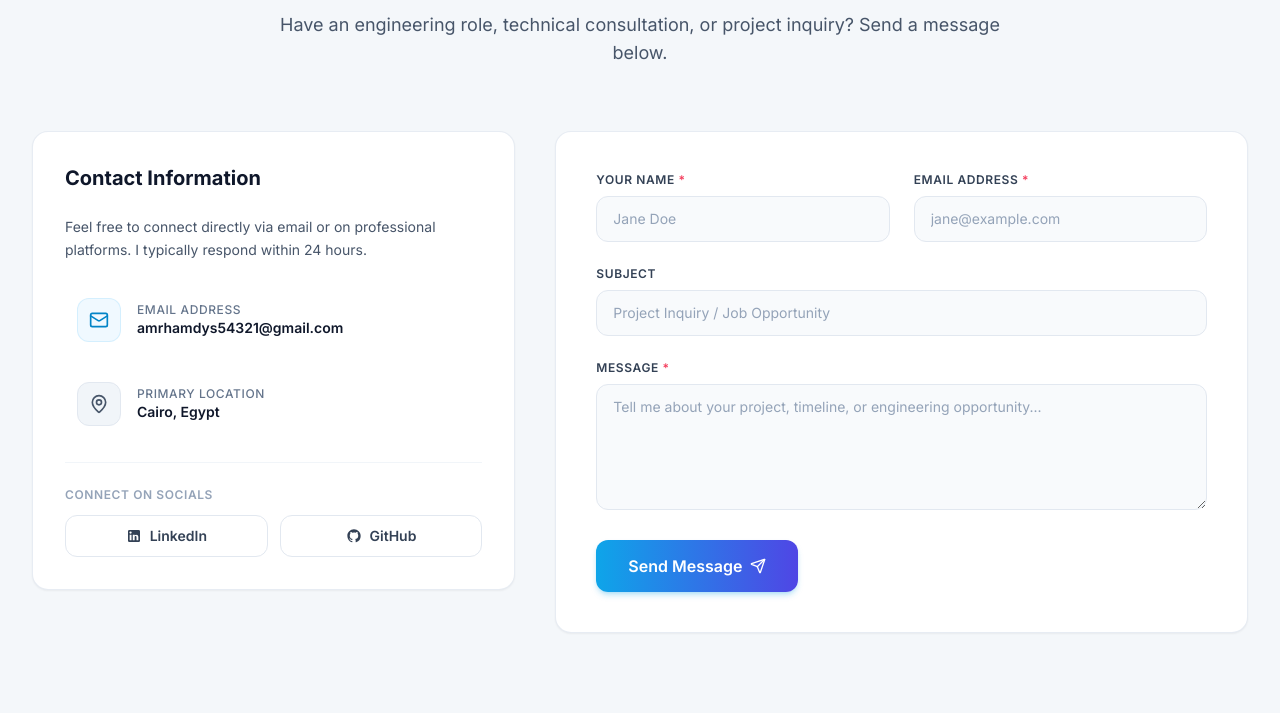
Contact Component › displays validation error if required fields are missing
(page scrolled)
What coordinates should you click on to do the following:
click the button "Send Message"
I would click on:
 (697, 566)
Its box is [596,540,798,592].
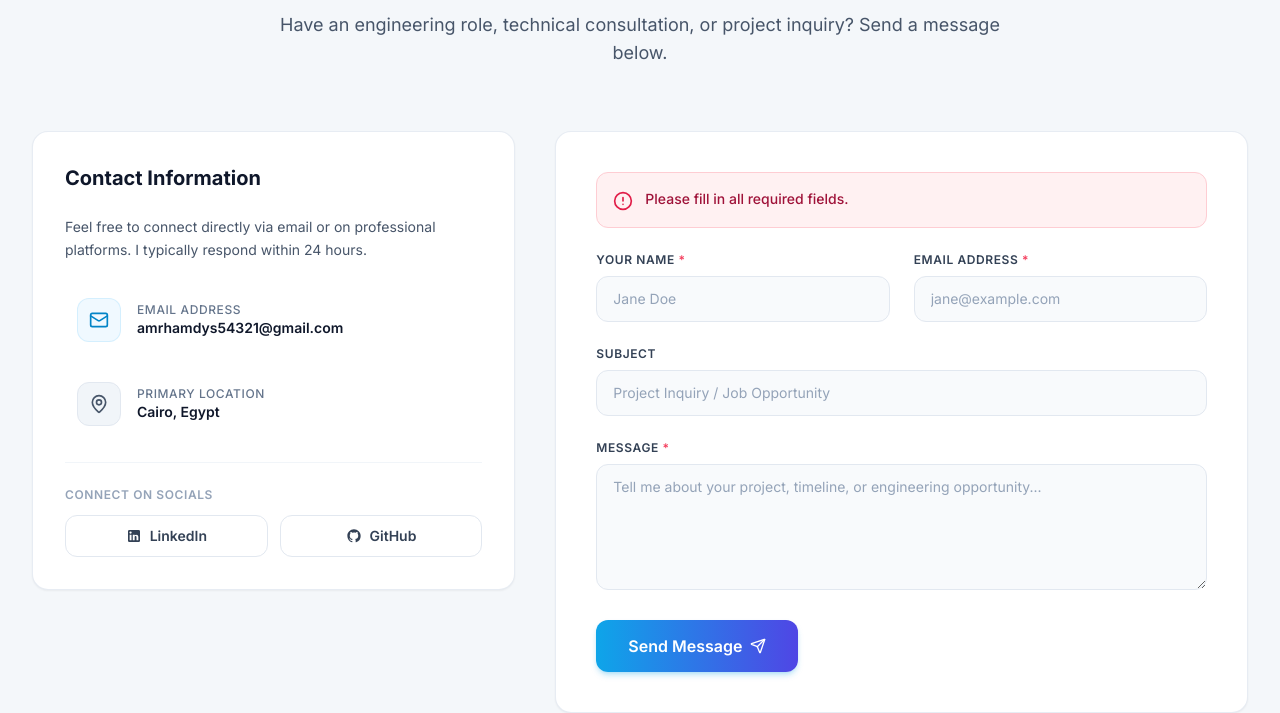
Check: the message shows "Please fill in all required fields", box [645,190,848,207]
